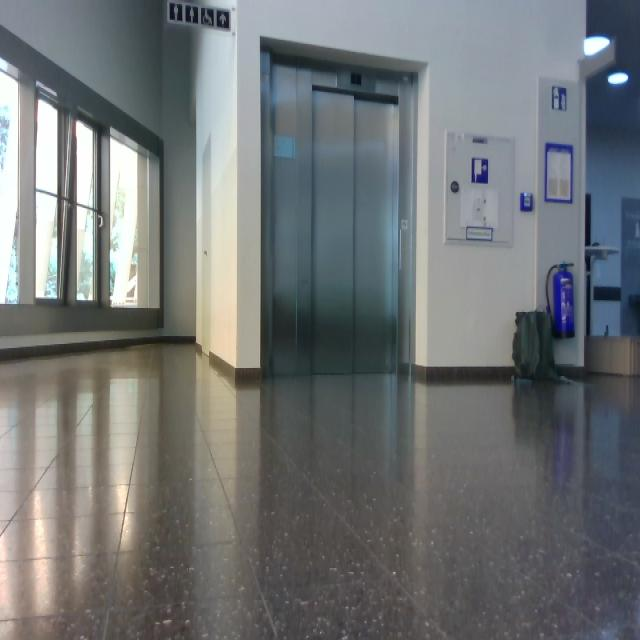door: (261, 52, 419, 378)
fire extinguisher: (546, 262, 575, 340)
light bulb: (583, 36, 610, 57), (607, 72, 629, 86)
tiled floor: (2, 340, 639, 638)
window: (1, 55, 164, 331)
